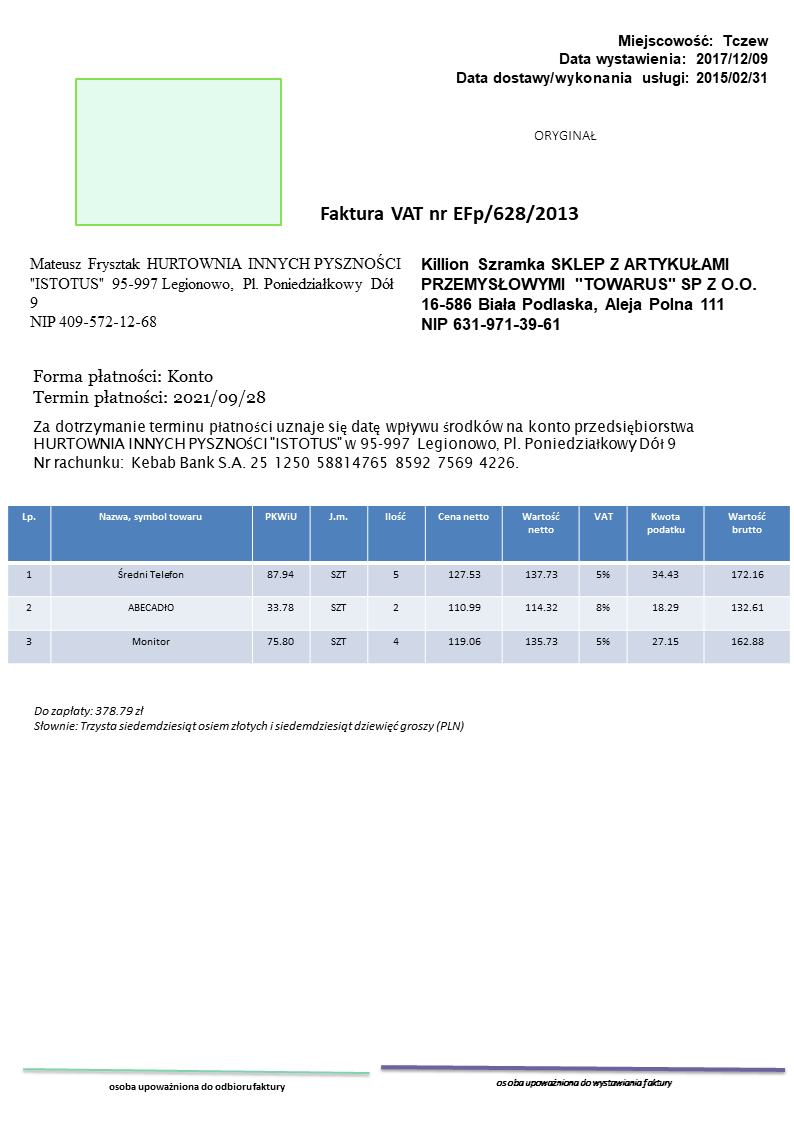Table: (6, 504, 790, 666)
TextBox: (29, 416, 699, 471), (27, 254, 402, 331), (417, 254, 761, 333), (452, 30, 770, 88), (30, 702, 467, 737), (29, 365, 268, 409), (317, 201, 580, 225), (104, 1079, 287, 1096), (491, 1075, 673, 1090), (529, 124, 601, 144)
